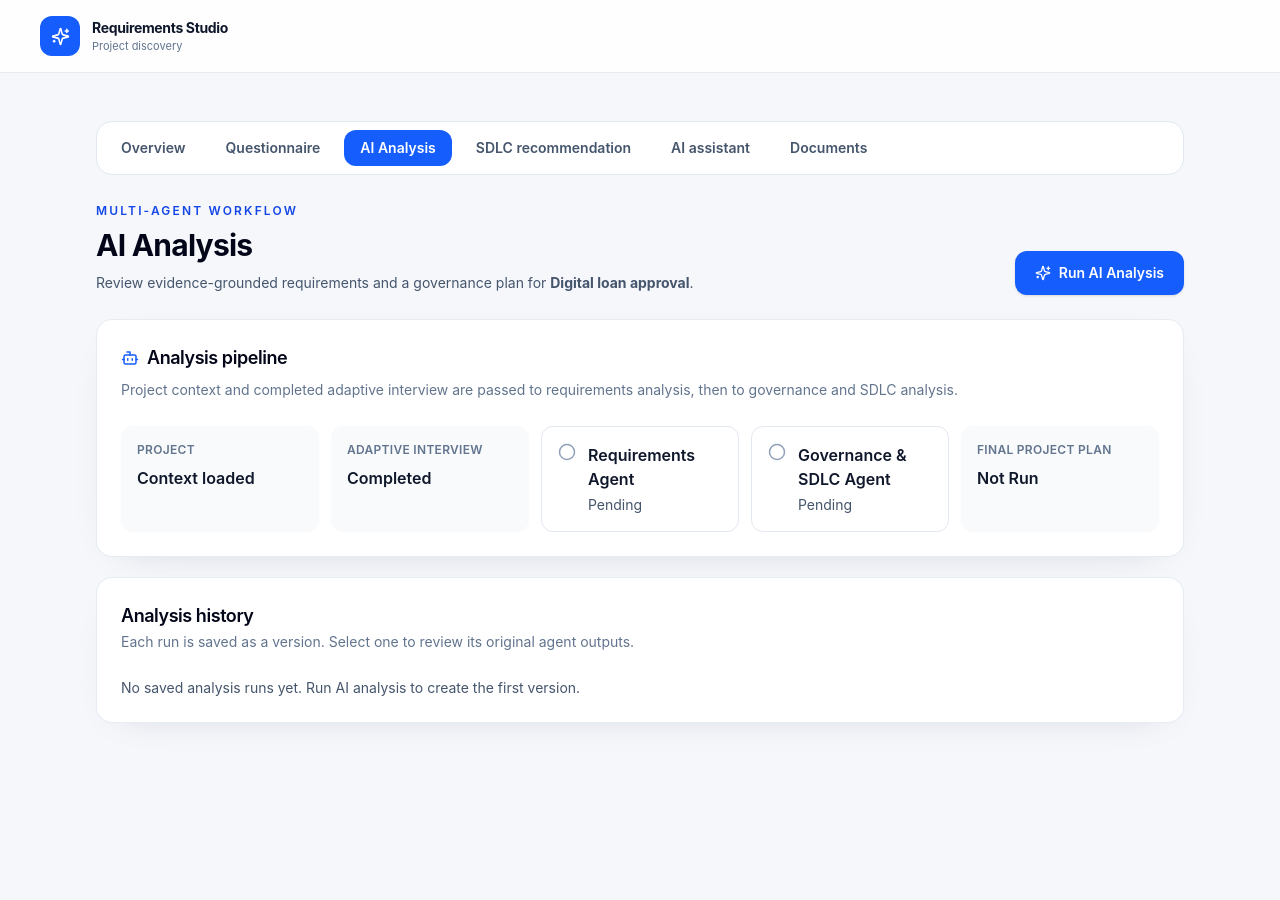
multi-agent analysis page › does not mark quality gates or checkpoints complete without backend state
Click the button "Run AI Analysis".
click(1099, 273)  # box [1015,251,1184,295]
(page scrolled)
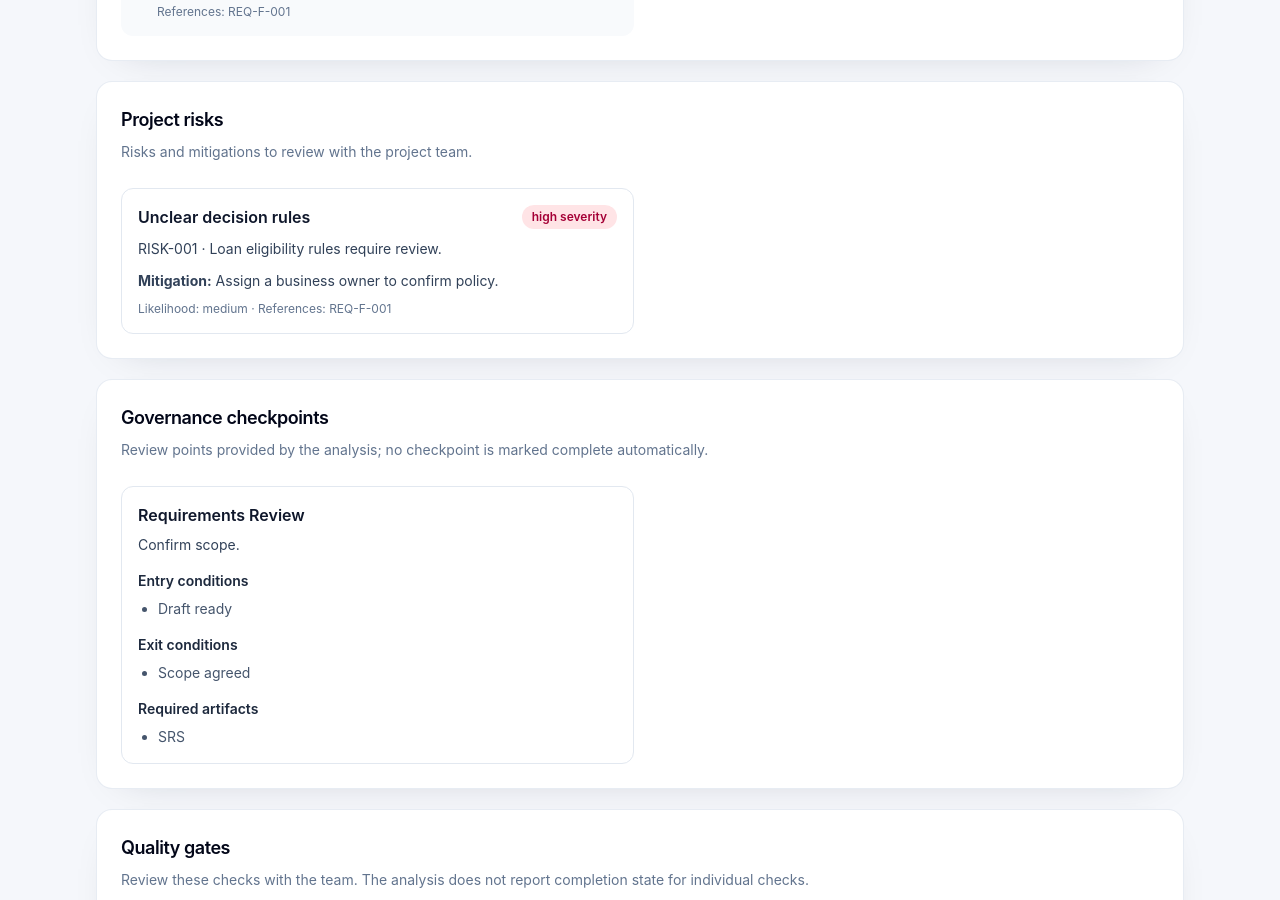
Result: the text "does not report completion state" is shown at [121,871,809,888]
Result: the text "no checkpoint is marked complete automatically" is shown at [121,441,708,458]
